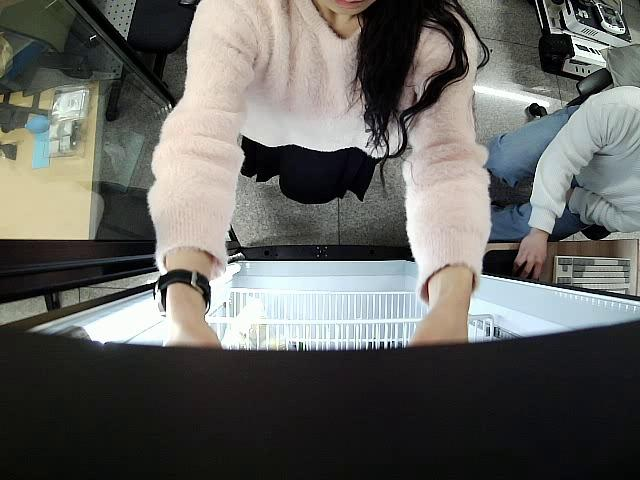00_hand: (511, 229, 550, 276)
